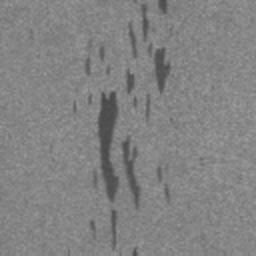Red iron sheet: (87, 0, 172, 252), (83, 45, 106, 77), (155, 166, 170, 204), (88, 218, 97, 241), (72, 101, 77, 115), (131, 246, 138, 256)
